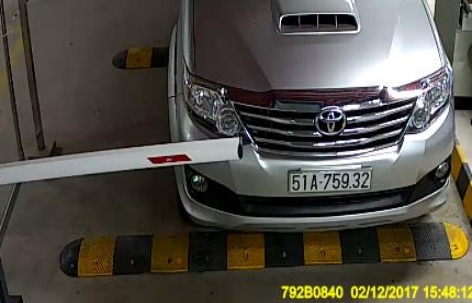plate: (286, 165, 374, 192)
